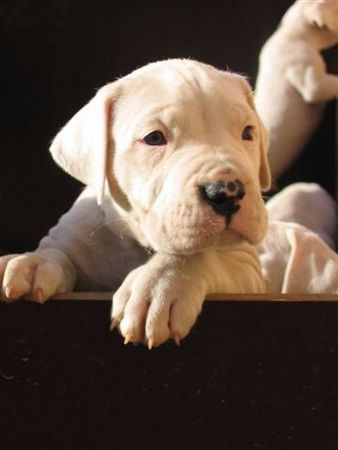dogo_argentino: (0, 56, 273, 350), (253, 0, 338, 179)
